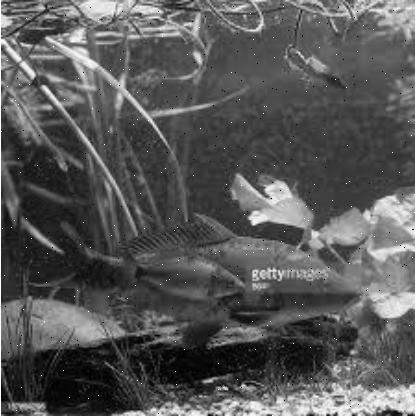ikan-mas: (60, 210, 356, 341), (116, 258, 244, 300)
